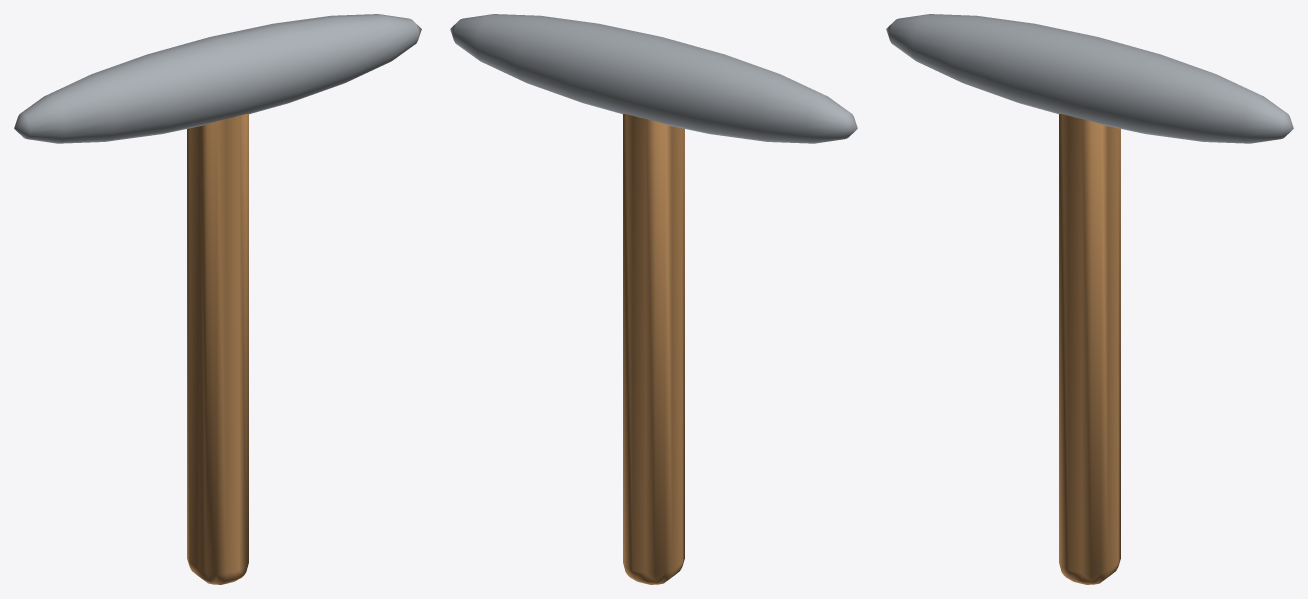
The model's file is clay_pickaxe.glb.
3 views of the same model, side by side, from view 1: azimuth 30°, elevation 25°; view 2: azimuth 150°, elevation 25°; view 3: azimuth 330°, elevation 25° (orthographic).
Visible parts, largest first — view 1: clay_pickaxe; view 2: clay_pickaxe; view 3: clay_pickaxe.
Part boxes in pixels (box(x1,y1,x2,y2)): clay_pickaxe: box(14, 14, 421, 584); clay_pickaxe: box(450, 14, 857, 584); clay_pickaxe: box(886, 14, 1293, 584).
Bounding box in the file's own units: 0.44 × 0.555 × 0.08.
